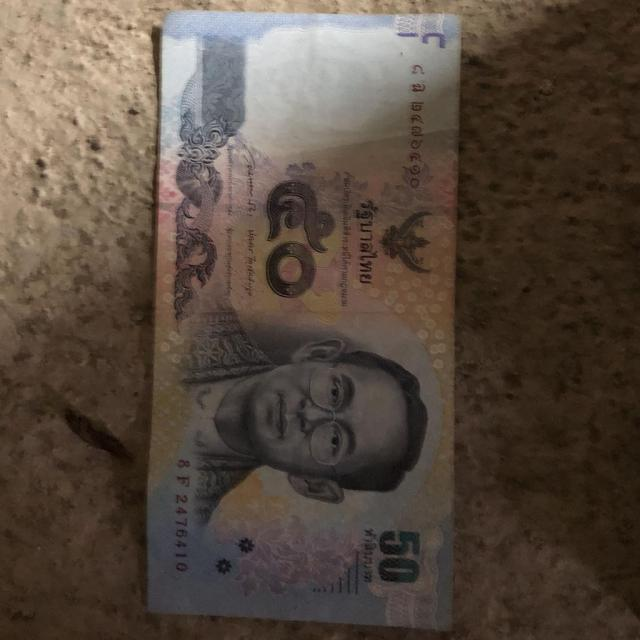THAI50: (147, 12, 460, 629)
